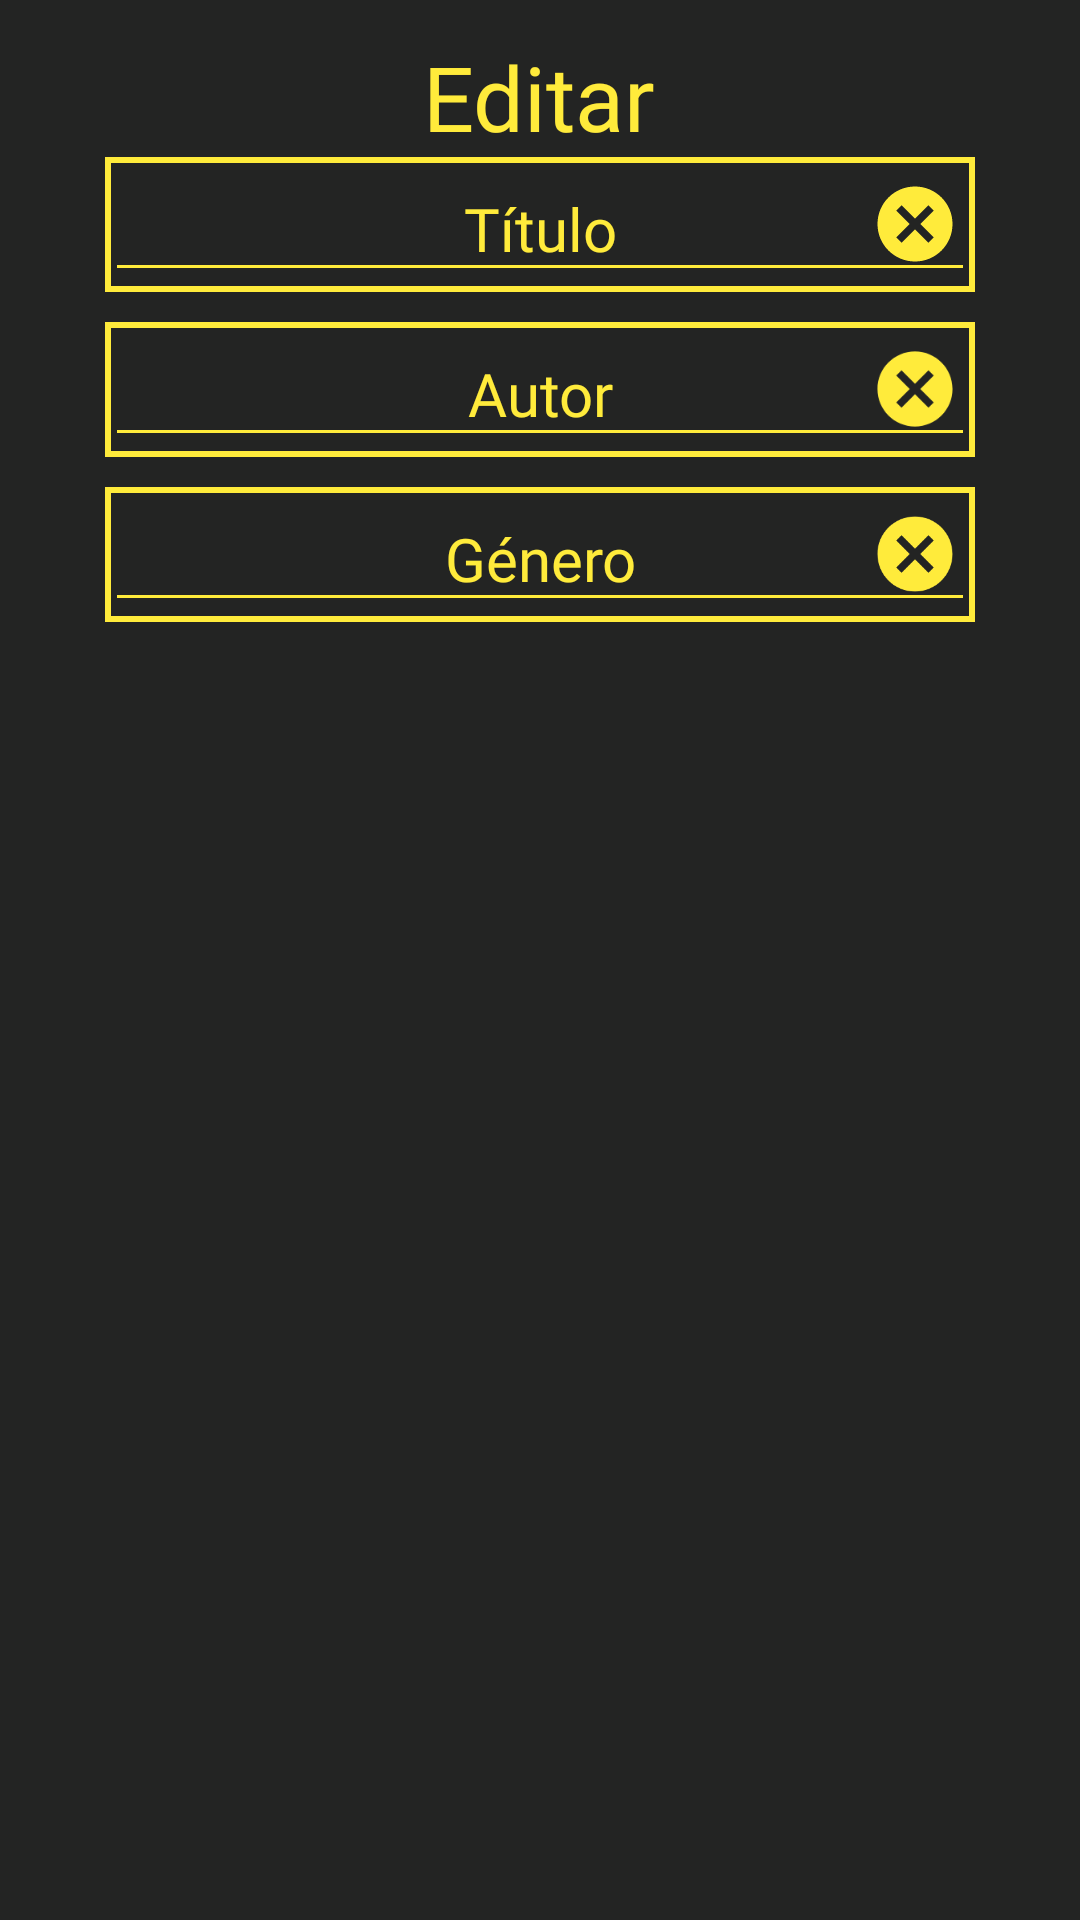

Where to tap for icons on this 1080 x 1920 app screen, as [x,y]:
cancelar: [915,224], [915,389], [915,554]
